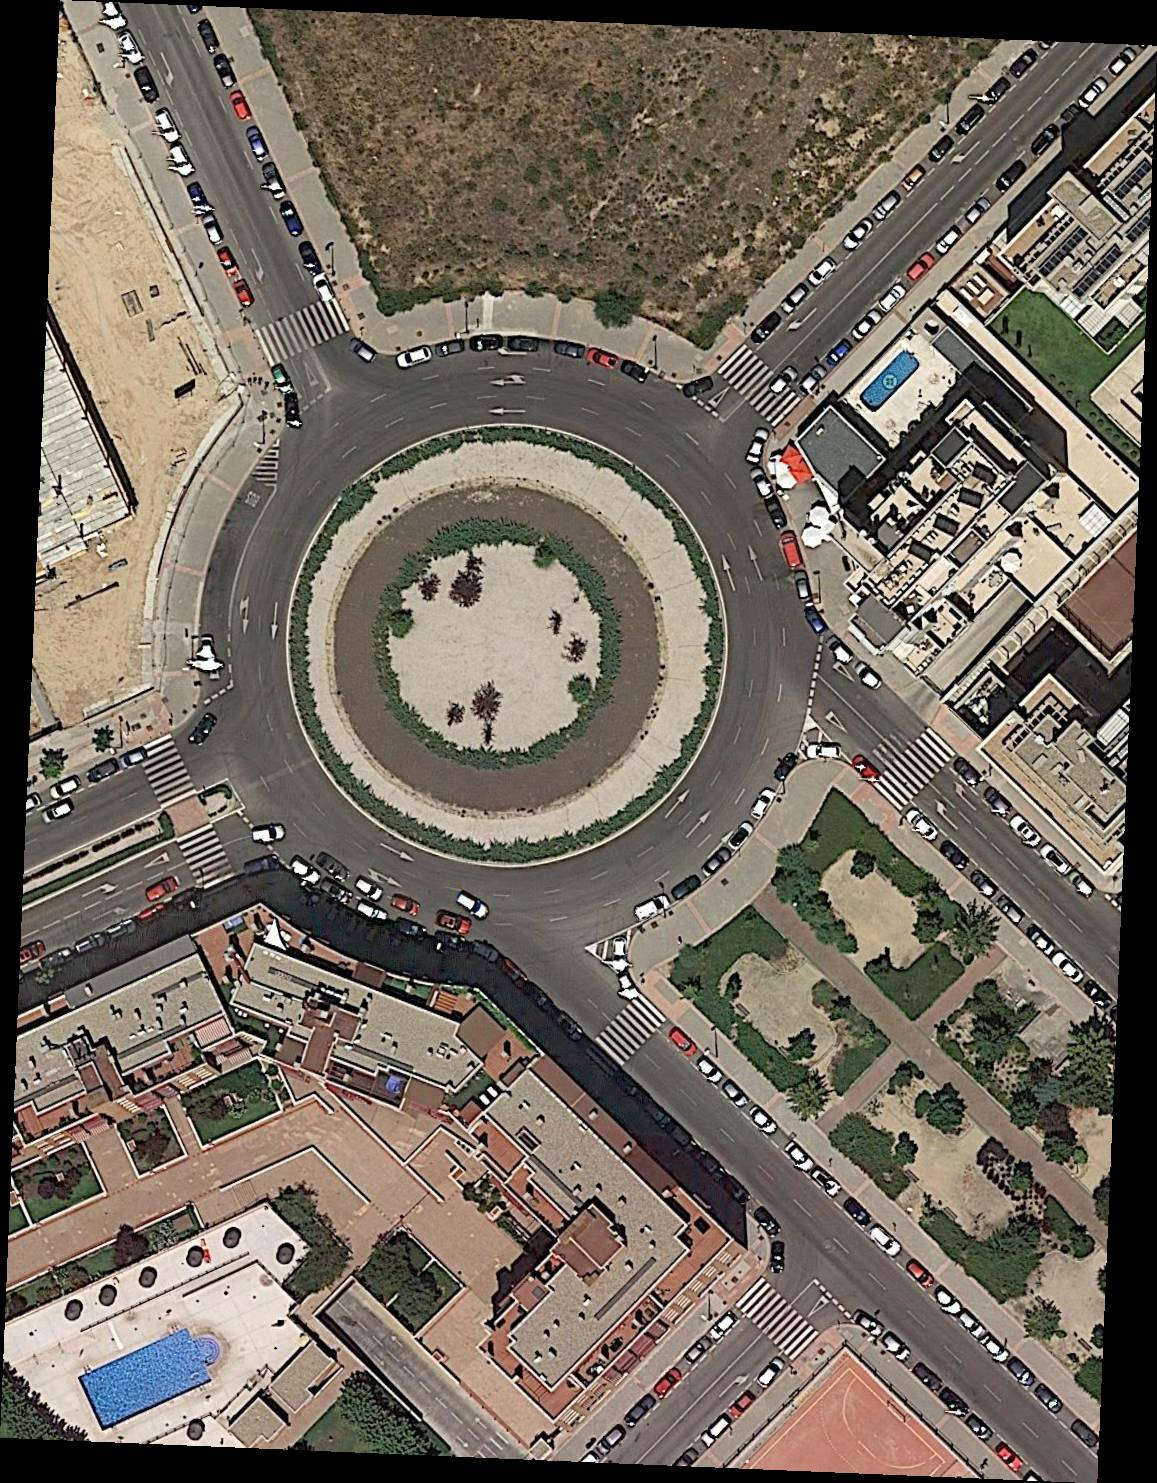roundabout: (144, 326, 867, 974)
small vehicle: (864, 1224, 903, 1259), (903, 807, 941, 841), (630, 890, 669, 923), (1052, 949, 1086, 987), (1009, 814, 1043, 849), (624, 1393, 657, 1426), (752, 1355, 785, 1390), (954, 104, 988, 136), (1031, 122, 1063, 156), (132, 64, 160, 104), (910, 1363, 944, 1395), (852, 661, 886, 693), (980, 786, 1014, 819), (1039, 841, 1072, 875), (938, 839, 972, 872), (751, 311, 783, 345), (979, 1333, 1011, 1365), (746, 1101, 779, 1134), (459, 890, 492, 921), (779, 282, 813, 313), (842, 218, 873, 252), (315, 852, 350, 882), (748, 787, 778, 822), (1007, 1353, 1035, 1389), (116, 29, 143, 66), (260, 163, 287, 201), (851, 308, 882, 341), (878, 283, 909, 315), (725, 820, 756, 852), (807, 256, 838, 288), (849, 751, 880, 782), (1034, 1383, 1064, 1416), (1078, 78, 1110, 108), (933, 1286, 966, 1316), (699, 847, 732, 878), (146, 875, 182, 902), (212, 57, 238, 93), (297, 242, 324, 278), (279, 202, 305, 240), (994, 1442, 1025, 1473), (968, 867, 998, 898), (726, 1389, 758, 1418), (701, 1416, 730, 1448), (779, 530, 803, 568), (939, 1387, 969, 1417), (997, 160, 1027, 190), (1008, 49, 1038, 79), (825, 634, 854, 666), (798, 365, 827, 396), (952, 757, 981, 788), (907, 1259, 935, 1290), (752, 1206, 781, 1237), (708, 1312, 740, 1340), (1028, 927, 1056, 959), (882, 1333, 911, 1363), (907, 253, 937, 282), (964, 196, 994, 225), (787, 1142, 816, 1172), (994, 896, 1023, 926), (1106, 48, 1138, 76), (844, 1195, 870, 1228), (669, 1026, 698, 1054), (683, 1337, 713, 1365), (1072, 1419, 1098, 1450), (803, 604, 830, 636), (397, 347, 433, 370), (170, 144, 195, 177), (87, 760, 120, 784), (746, 430, 771, 463), (435, 912, 472, 934), (598, 1428, 626, 1457), (984, 77, 1013, 105), (721, 1080, 750, 1107), (247, 128, 270, 163), (656, 1369, 683, 1399), (769, 368, 799, 395), (810, 1170, 840, 1197), (671, 875, 702, 900), (196, 20, 220, 53), (157, 111, 181, 143), (749, 466, 773, 498), (683, 374, 716, 397), (874, 194, 902, 221), (1068, 870, 1096, 898), (825, 338, 851, 367), (960, 1311, 986, 1340), (773, 752, 799, 781), (320, 880, 352, 904), (356, 900, 388, 924), (49, 776, 81, 800), (291, 858, 320, 884), (40, 803, 73, 825), (901, 167, 929, 193), (353, 878, 383, 902), (348, 339, 378, 364), (765, 498, 789, 528), (228, 91, 250, 123), (187, 178, 207, 213), (927, 136, 954, 163), (697, 1058, 724, 1085), (968, 1416, 993, 1443), (855, 1312, 882, 1337), (937, 228, 962, 255), (250, 823, 287, 843), (389, 896, 420, 917), (216, 247, 238, 276), (272, 365, 294, 395), (20, 943, 48, 965), (620, 360, 649, 382), (234, 278, 254, 308), (588, 349, 616, 370), (203, 215, 223, 246), (119, 750, 146, 772), (795, 569, 811, 602), (313, 274, 333, 301), (471, 335, 503, 350), (810, 744, 840, 761), (436, 343, 464, 358), (771, 1242, 784, 1272), (287, 392, 300, 421), (556, 344, 582, 359), (512, 339, 538, 351)
swimming pool: (76, 1317, 237, 1432), (852, 345, 928, 419)
